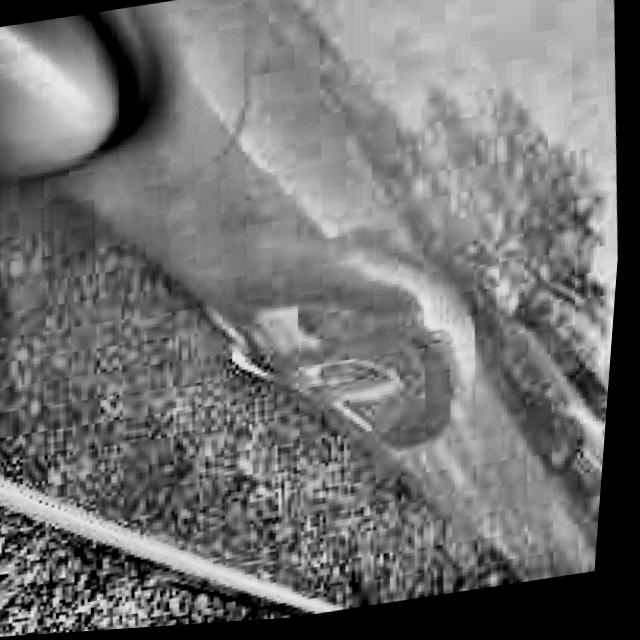door_dent: (218, 270, 411, 397)
